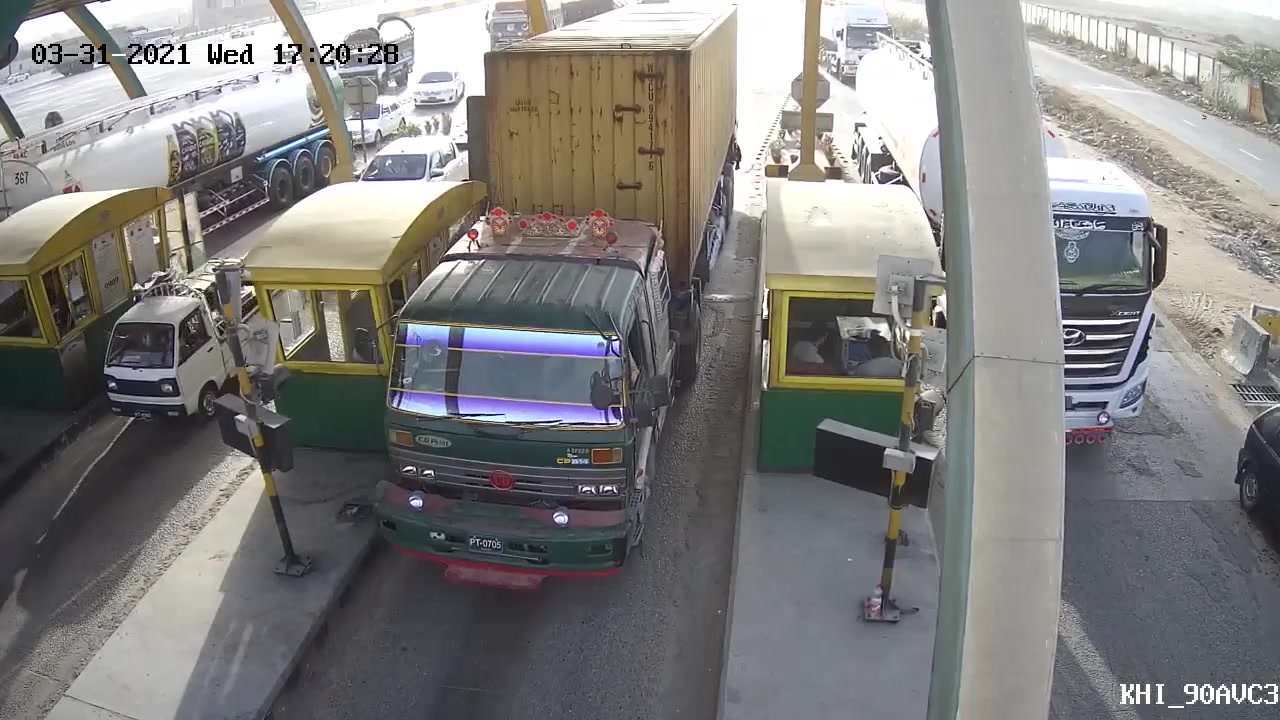F6: (362, 1, 746, 598)
